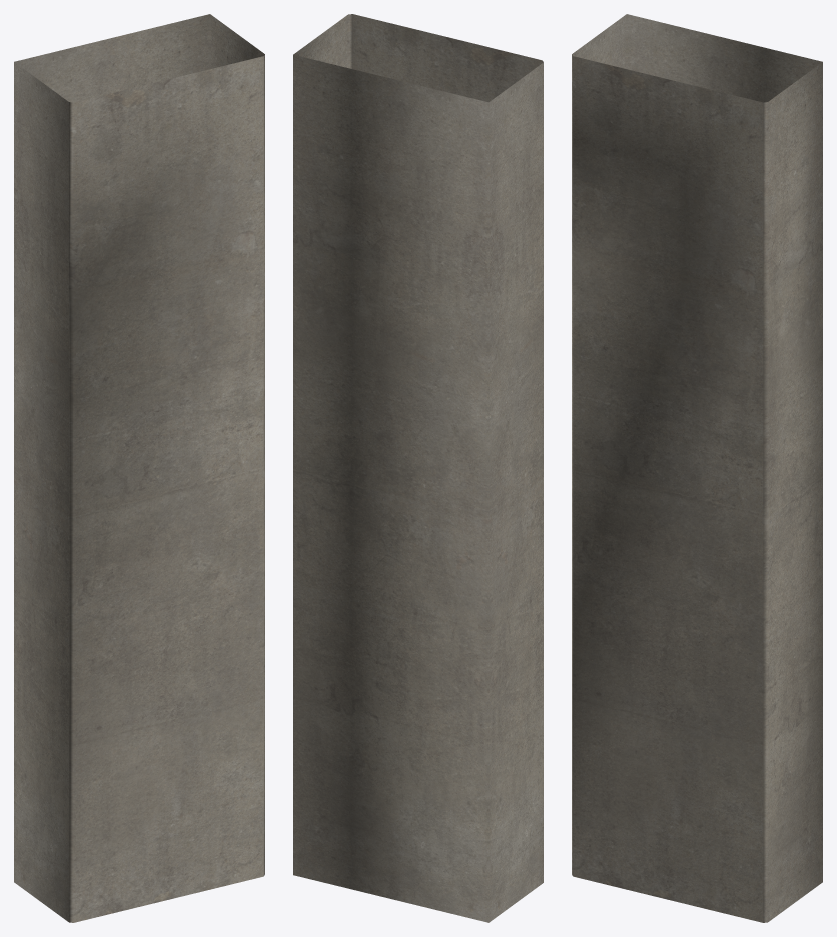
The model's file is ColumnC_4m.fbx.
3 renders of one model, left to right at view 1: azimuth 30°, elevation 25°; view 2: azimuth 150°, elevation 25°; view 3: azimuth 330°, elevation 25°, orthographic.
Parts seen in each view (by area): view 1: ColumnB.001; view 2: ColumnB.001; view 3: ColumnB.001.
Boxes of the visible parts, x1,y1,x2,y2 form: ColumnB.001: (14, 14, 264, 922); ColumnB.001: (293, 14, 543, 922); ColumnB.001: (572, 14, 822, 922).
Size of the model in its own units: 100 by 400 by 50.
1 material, 1 textured.
